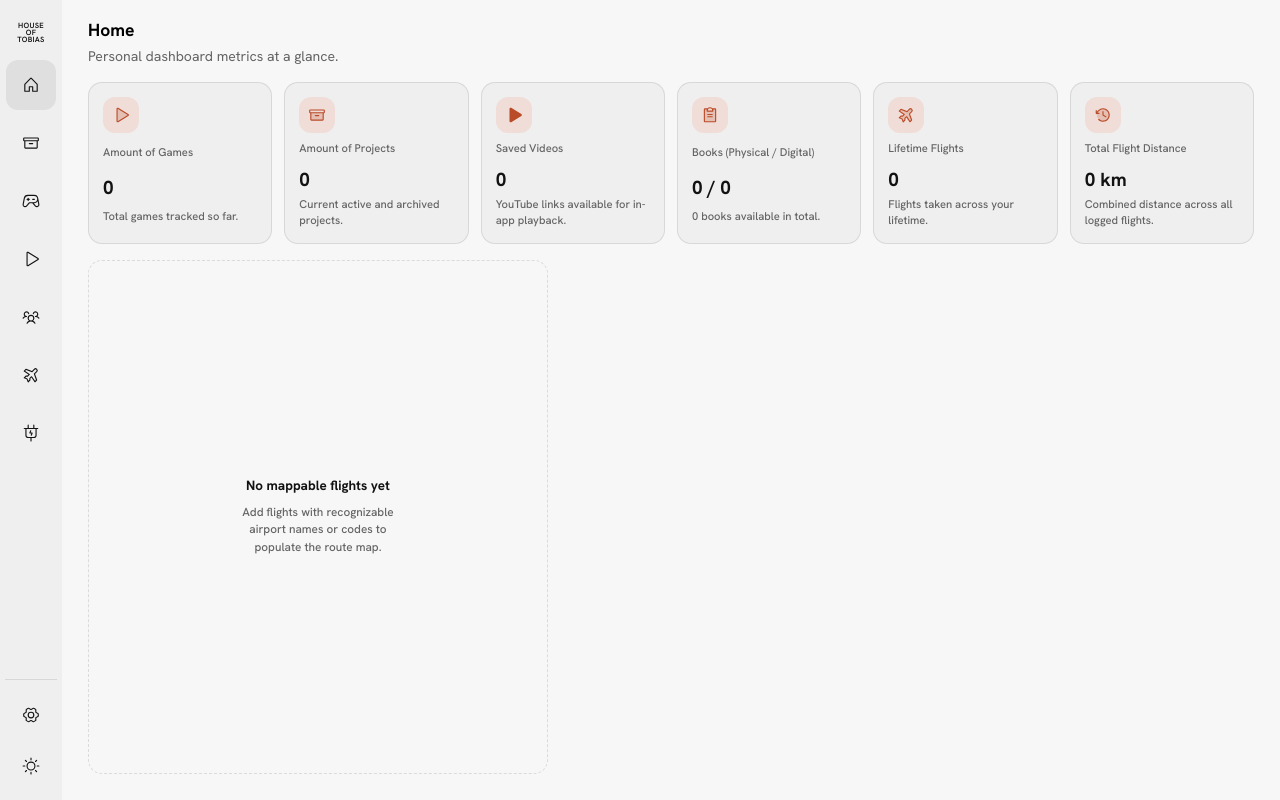
App › cycles light, dark, and auto theme modes
Click the button named "toggle theme mode".
click(31, 766)  # box left=15, top=750, right=47, bottom=782
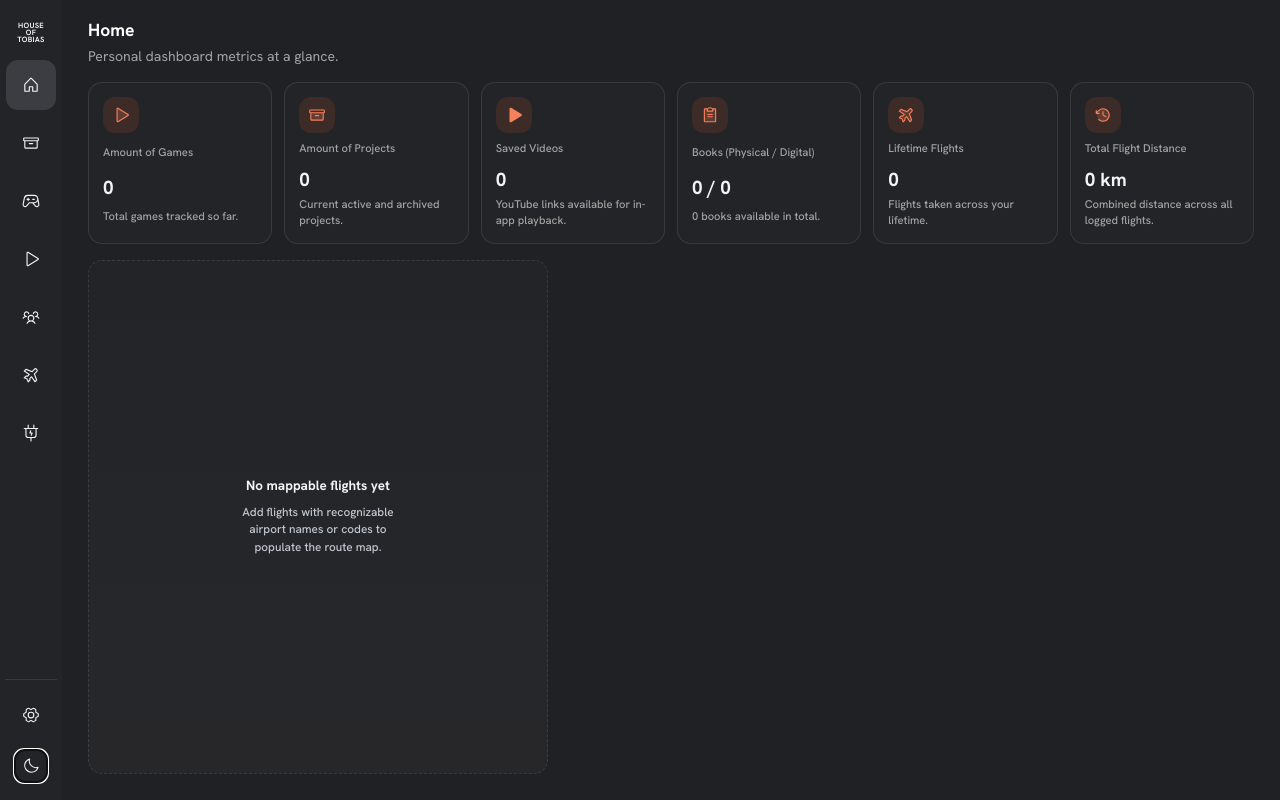
Now the element that starts with "HOUSE" has class "dark"
Click the button named "toggle theme mode".
click(31, 766)  # box left=15, top=750, right=47, bottom=782
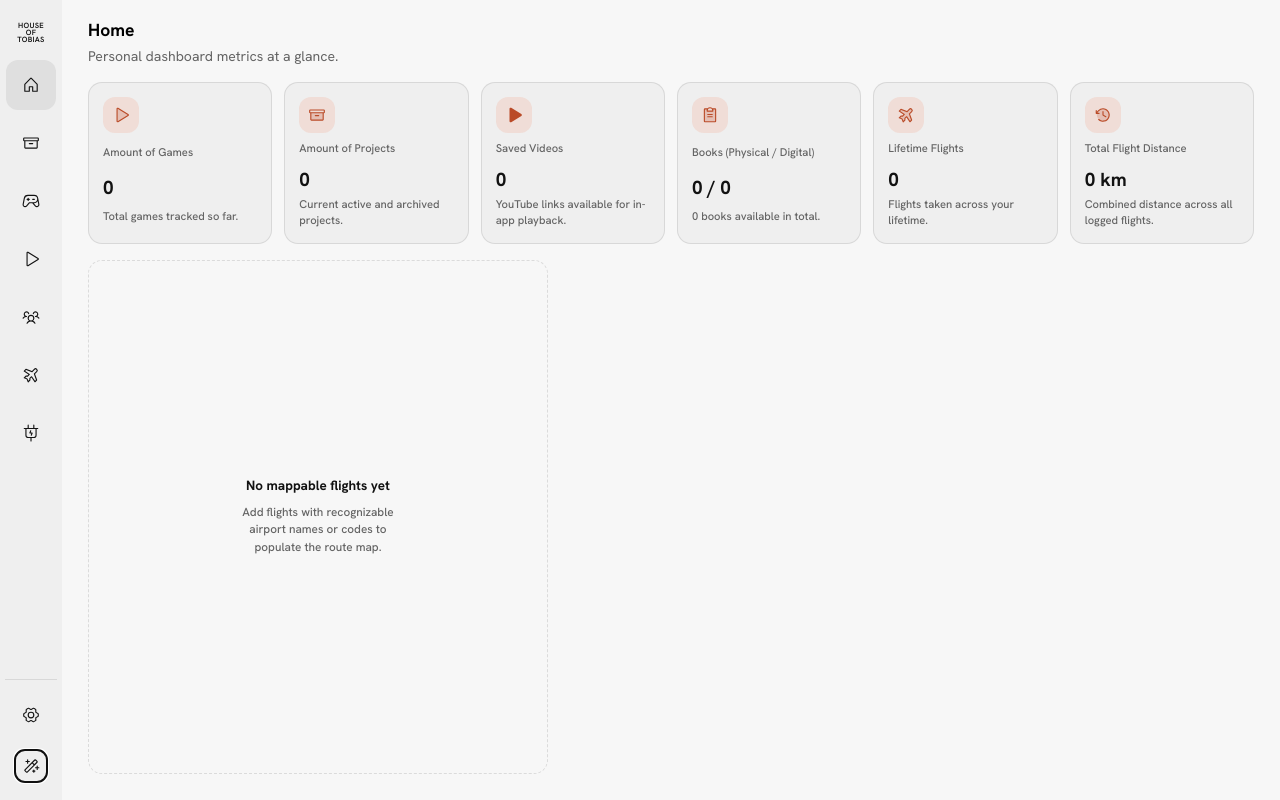
Now the button named "theme mode: auto" is shown, box left=15, top=750, right=47, bottom=782
